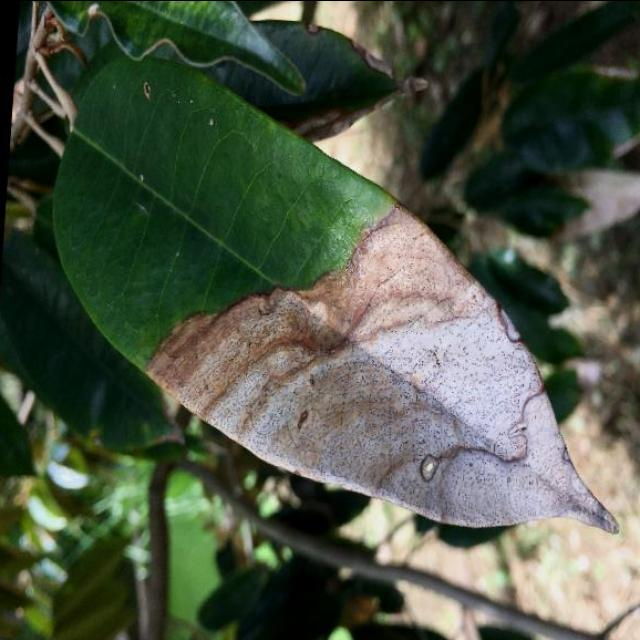Leaf Blight: (23, 44, 640, 549)
